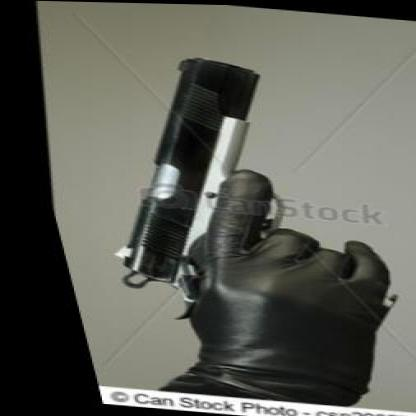pistol: (33, 43, 413, 328)
